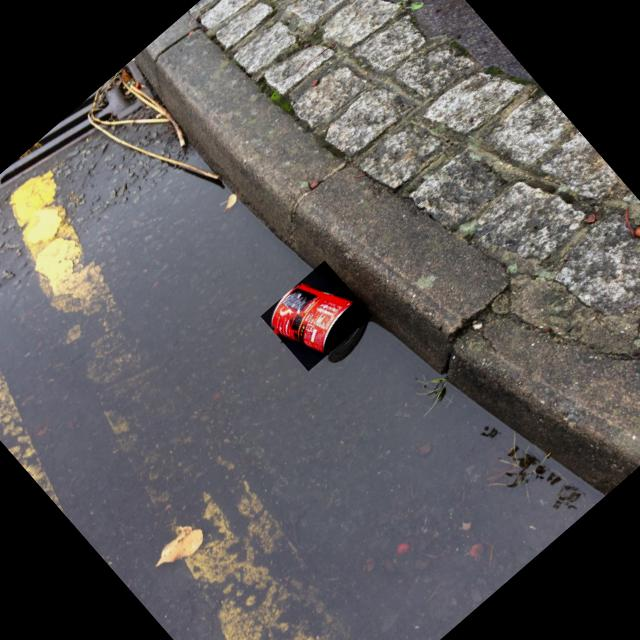Other can: (273, 283, 365, 355)
